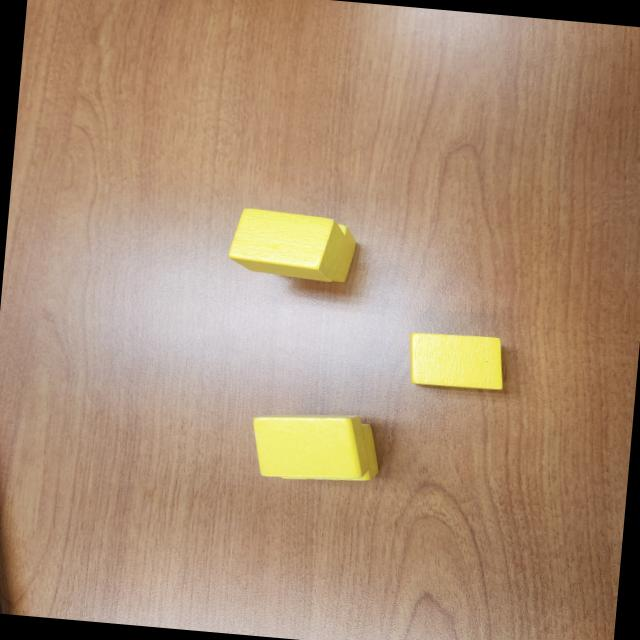yellow: (246, 406, 376, 486), (226, 206, 348, 284), (273, 413, 385, 488), (403, 328, 508, 391), (270, 217, 360, 286)
